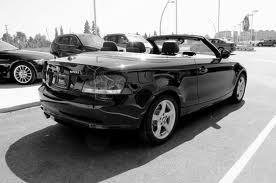car: (30, 34, 257, 151)
